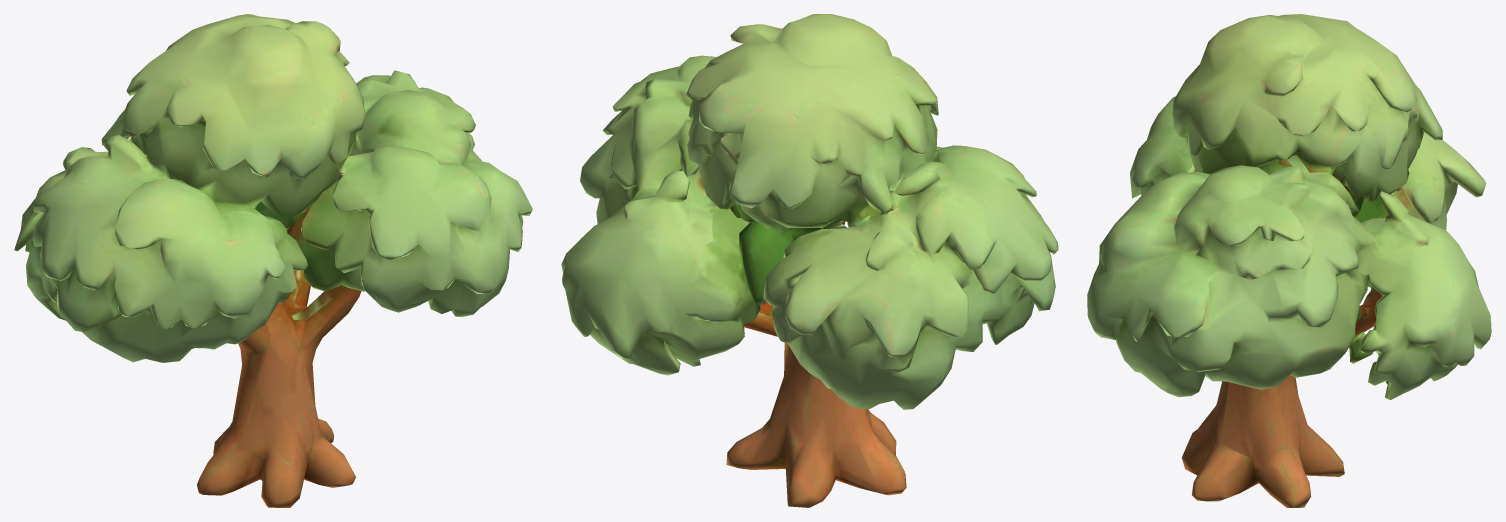
The model's file is peach.glb.
The picture shows the model from 3 angles, left to right: view 1: azimuth 30°, elevation 25°; view 2: azimuth 150°, elevation 25°; view 3: azimuth 270°, elevation 25°; orthographic projection. The views are drawn at different scales.
Visible parts, largest first — view 1: textured_mesh.obj; view 2: textured_mesh.obj; view 3: textured_mesh.obj.
Part boxes in pixels (<box>): textured_mesh.obj: <box>14,14,532,507</box>; textured_mesh.obj: <box>561,14,1058,507</box>; textured_mesh.obj: <box>1087,14,1491,507</box>.
Size of what is drawn, in the model's own units: 3.02 by 2.88 by 2.33.
1 material, 1 textured.
